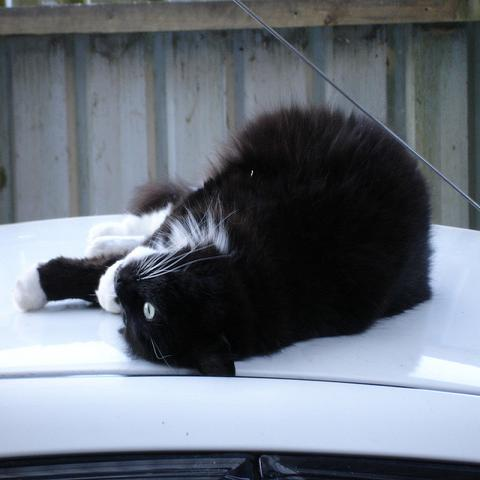car: (0, 212, 479, 475)
